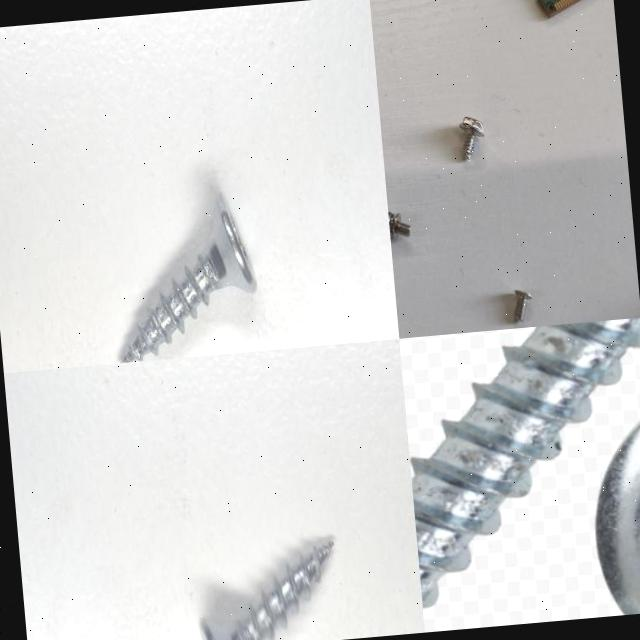Screw: (411, 317, 640, 607), (102, 182, 266, 362), (200, 539, 333, 640), (456, 112, 488, 164), (510, 286, 534, 326), (388, 206, 413, 242)
